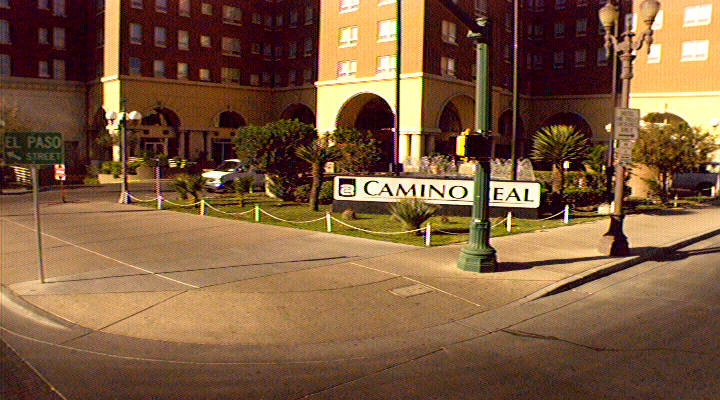Ramp: (5, 251, 552, 362)
